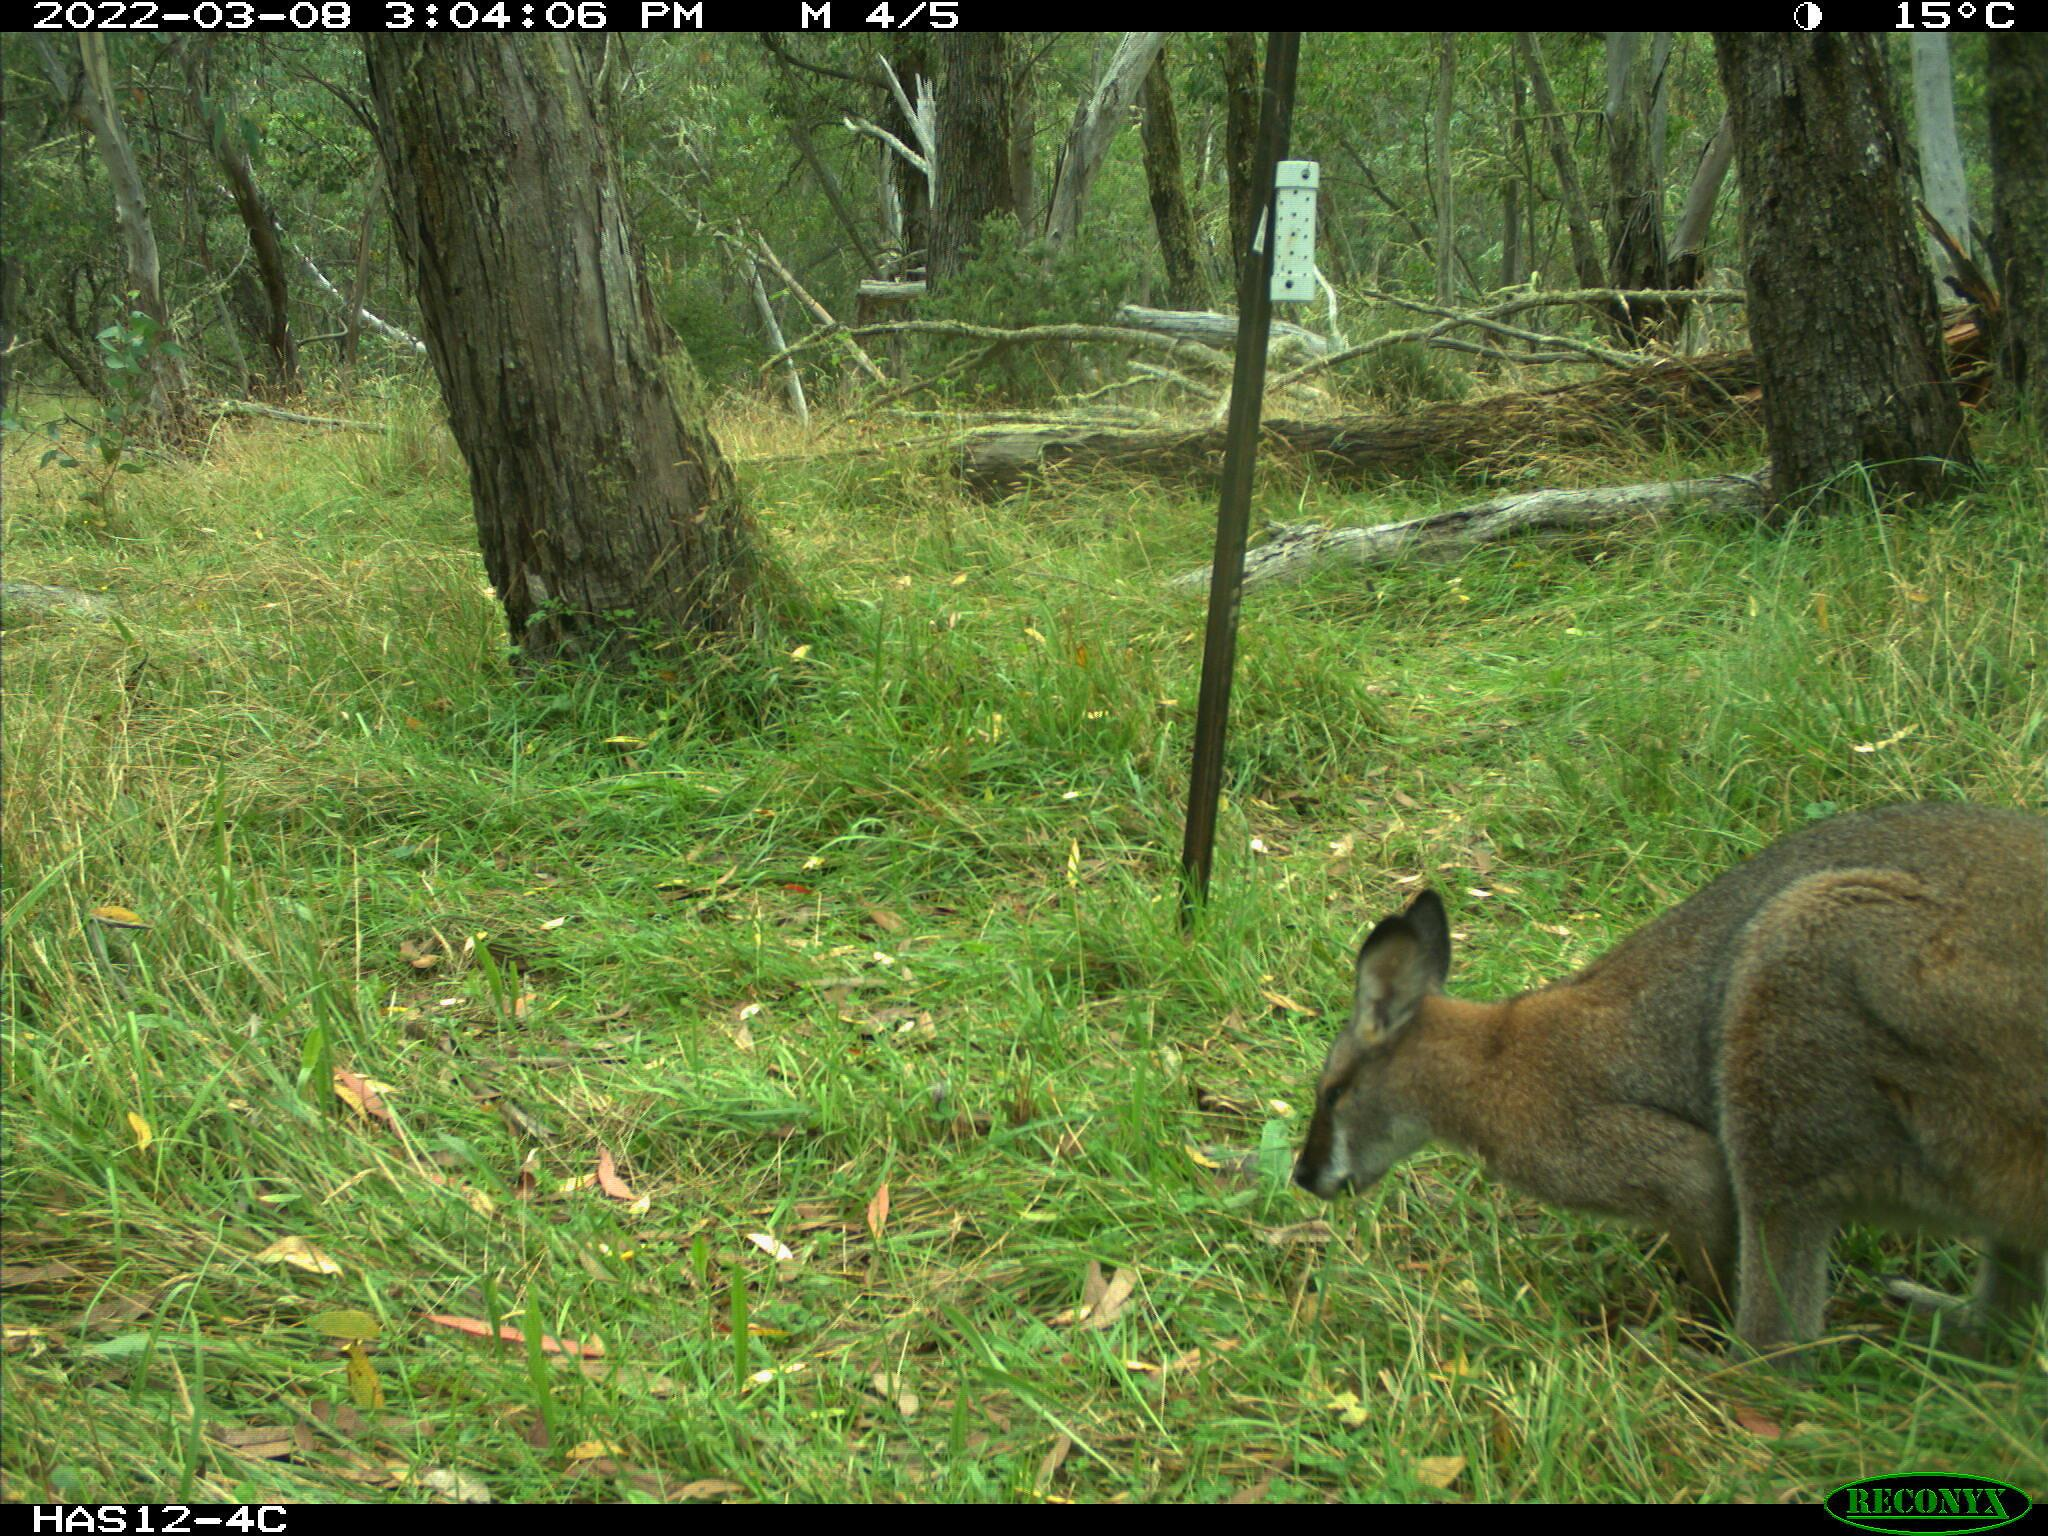Red-necked wallaby: (1298, 774, 2048, 1402)
